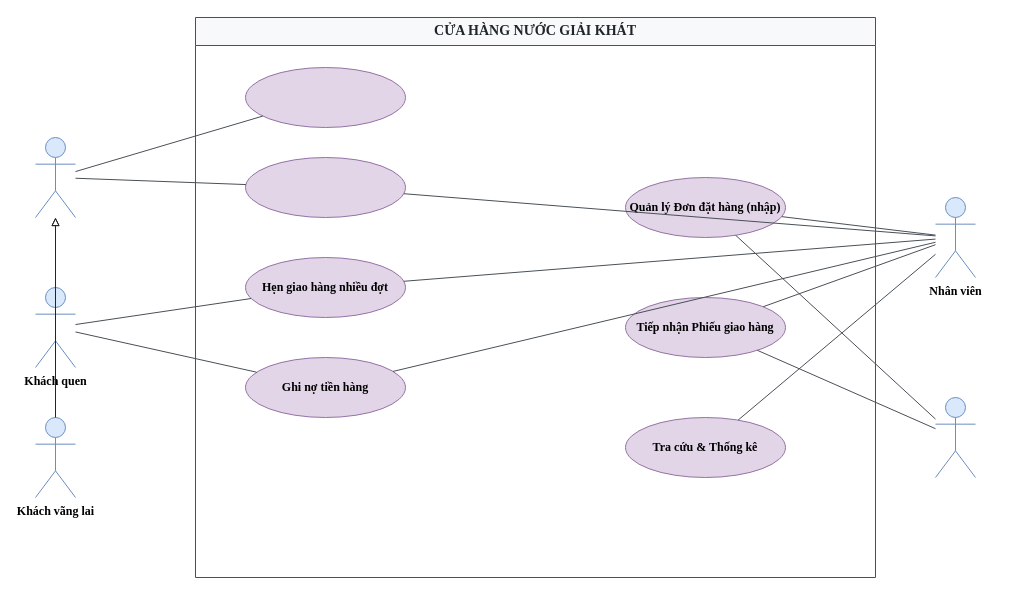
Image size: 1009x595. Some labels were removed from this diagram. Here are the shapes that lost their labels. From the top down, the centre of each, then its label:
the point at 325,97: Đặt mua nước giải khát
the point at 55,177: Khách hàng
the point at 325,187: Bán hàng giao ngay
the point at 955,437: Nhà cung ứng
